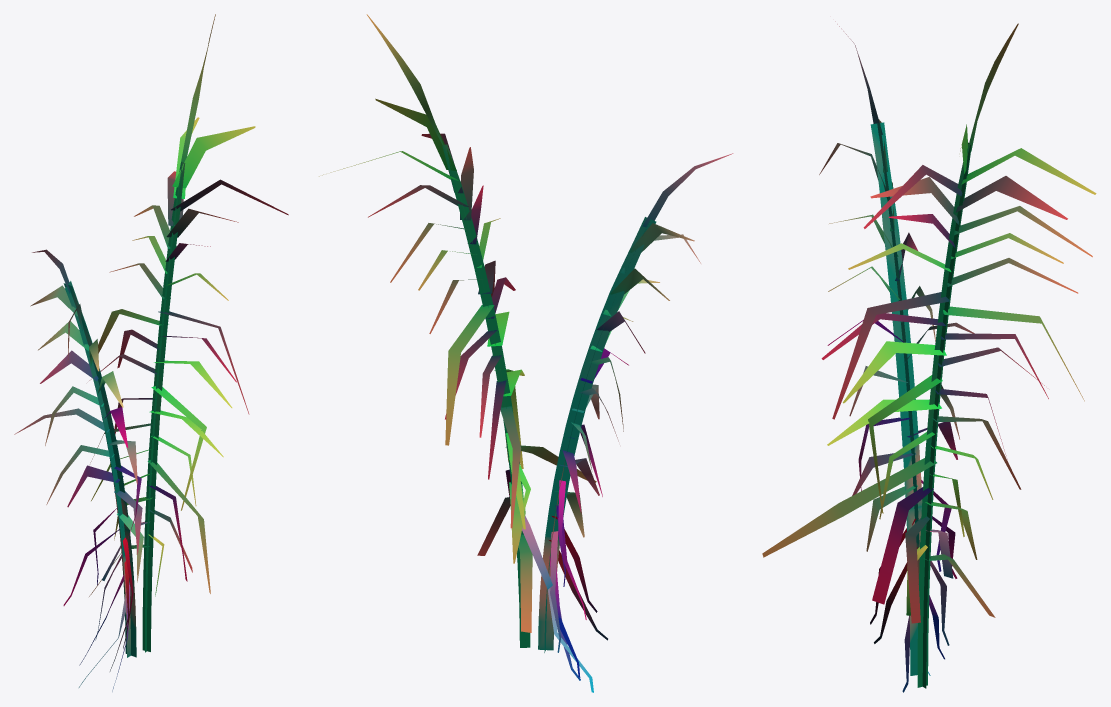
The model's file is Giant_Reed_sjllX_Mid_sjllX_VarC_LOD1.fbx.
3 views of the same model, side by side, from view 1: azimuth 30°, elevation 25°; view 2: azimuth 150°, elevation 25°; view 3: azimuth 270°, elevation 25° (orthographic). The views are drawn at different scales.
Parts seen in each view (by area): view 1: _4115_VarC_LOD2; view 2: _4115_VarC_LOD2; view 3: _4115_VarC_LOD2.
Part boxes in pixels (x1,y1,x2,y2): _4115_VarC_LOD2: (14,14,288,691); _4115_VarC_LOD2: (319,14,733,692); _4115_VarC_LOD2: (762,21,1096,692).
Size of the model in its own units: 99.13 by 209 by 83.13.
